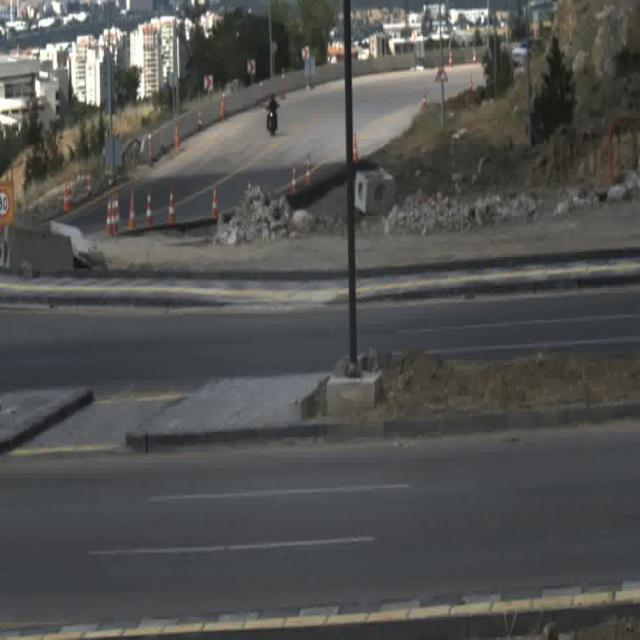Car: (511, 39, 545, 64)
Motorcycle: (262, 92, 282, 137)
